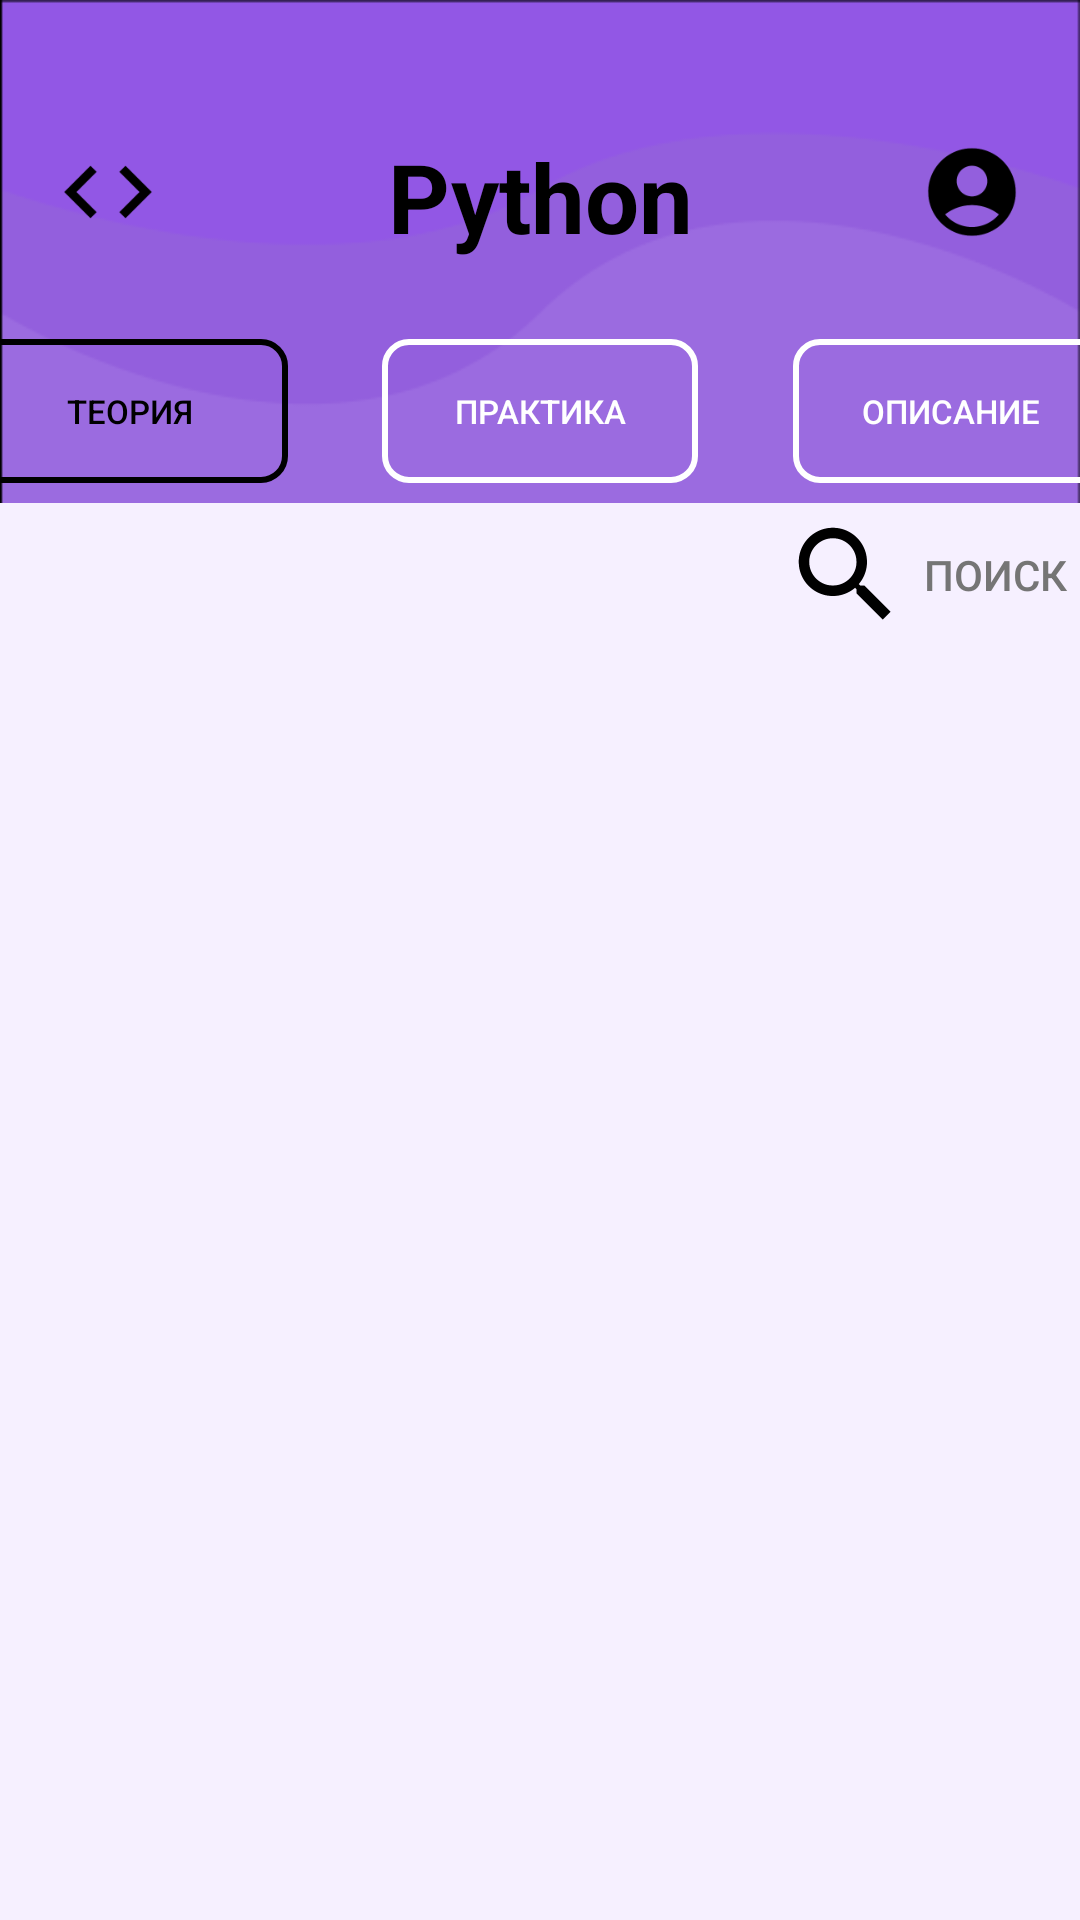

Icons on this 1080px x 1920px Android screen, each with the point to tap as (x,y):
code: (108,192)
profile: (972,192)
